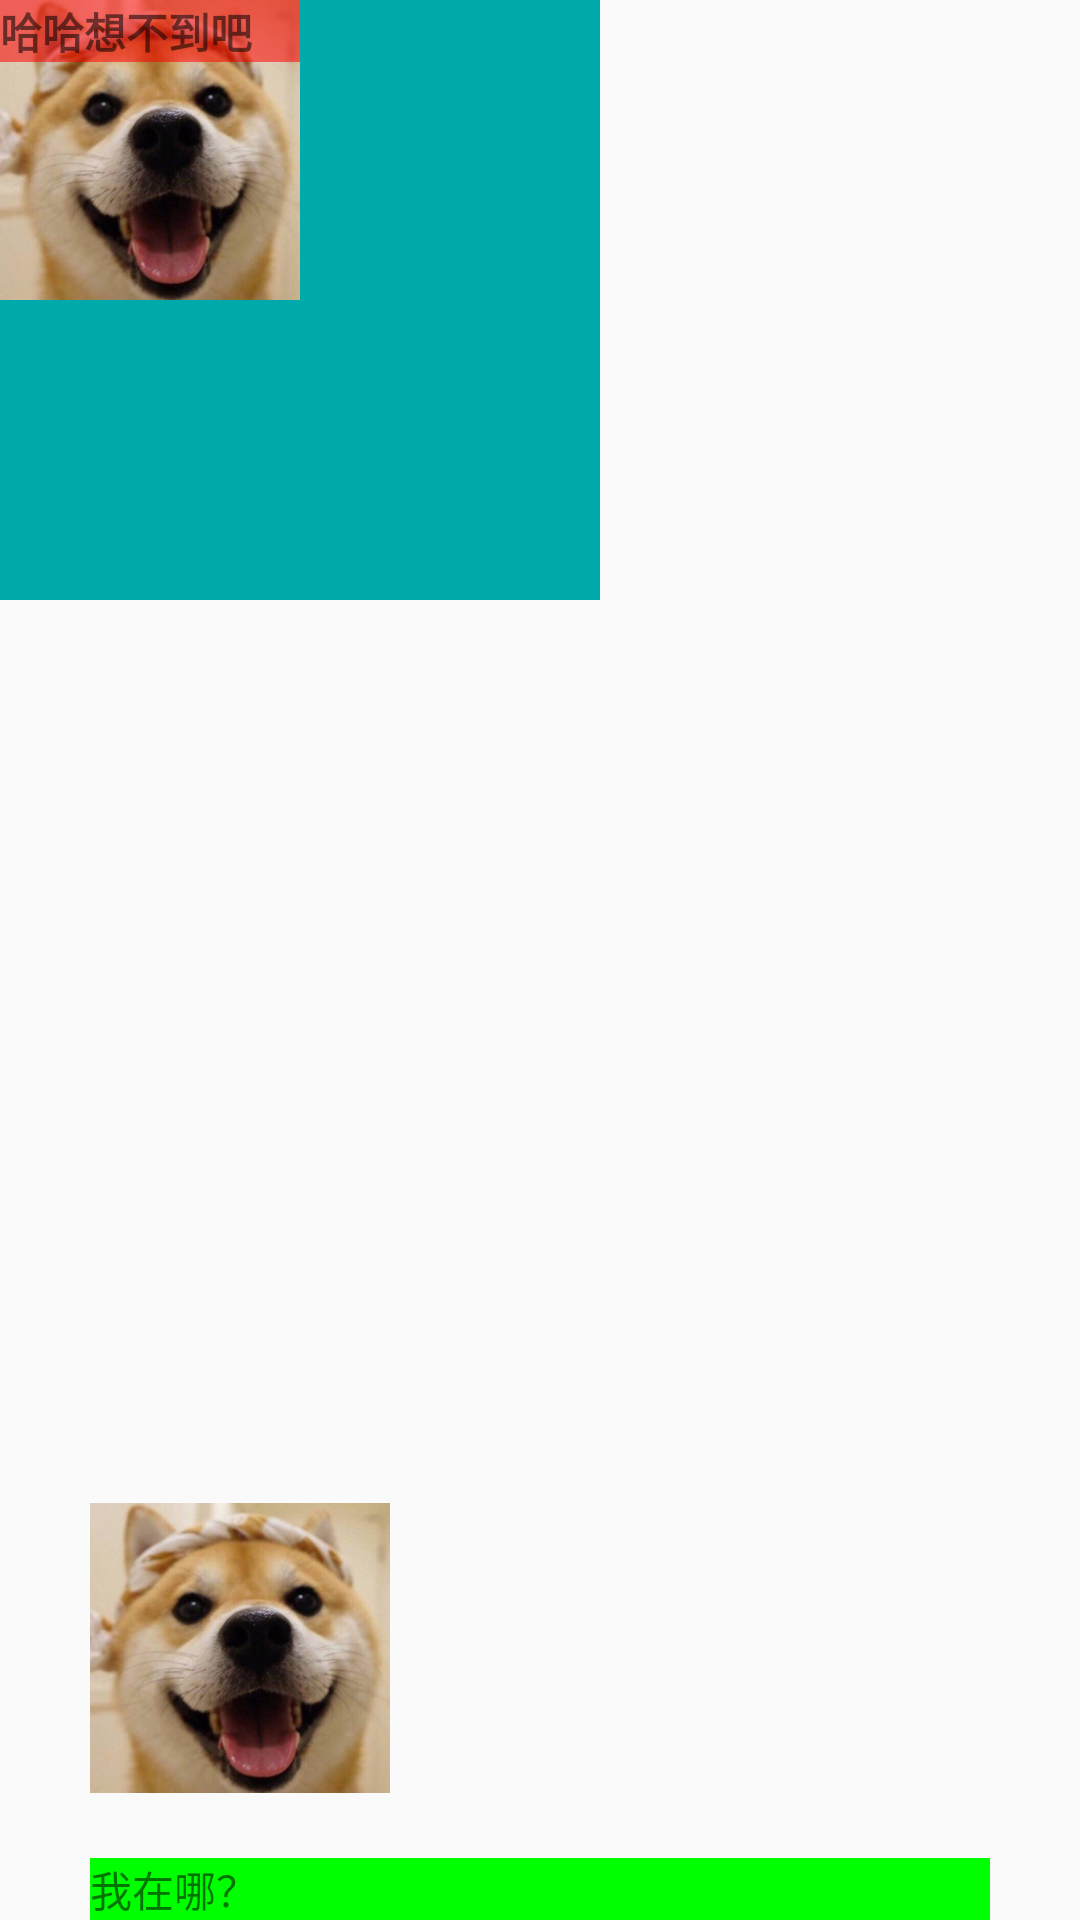

Screen size 1080 x 1920. Icon name, then its box in pixels as (x1, y1, x2, y2):
dog: (0, 0, 300, 300), (90, 1503, 390, 1793)
